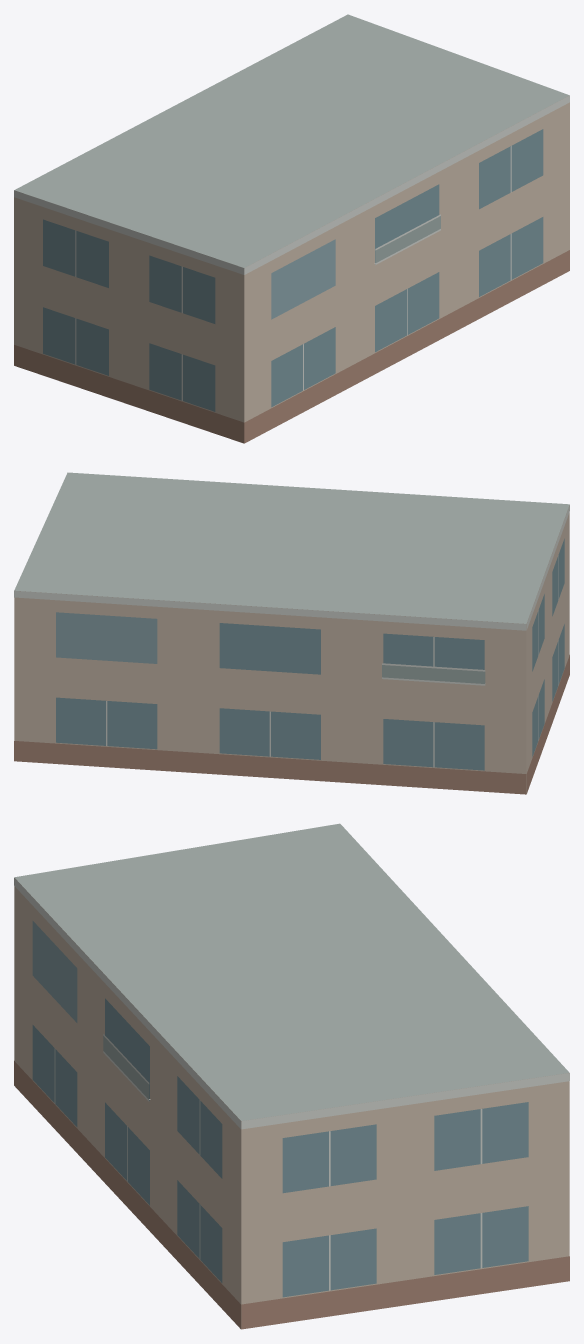
Rendered from survey-upis-32586275.glb.
3 renders of one model, top to bottom at view 1: azimuth 30°, elevation 25°; view 2: azimuth 150°, elevation 25°; view 3: azimuth 270°, elevation 25°, orthographic. The views are drawn at different scales.
Visible parts, largest first — view 1: survey-upis-32586275.tmp; view 2: survey-upis-32586275.tmp; view 3: survey-upis-32586275.tmp.
Boxes of the visible parts, box(x1,y1,x2,y2) form: survey-upis-32586275.tmp: box(14, 14, 569, 443); survey-upis-32586275.tmp: box(14, 472, 569, 794); survey-upis-32586275.tmp: box(14, 823, 569, 1329).
Bounding box in the file's own units: 18.71 × 6.1 × 14.76.
